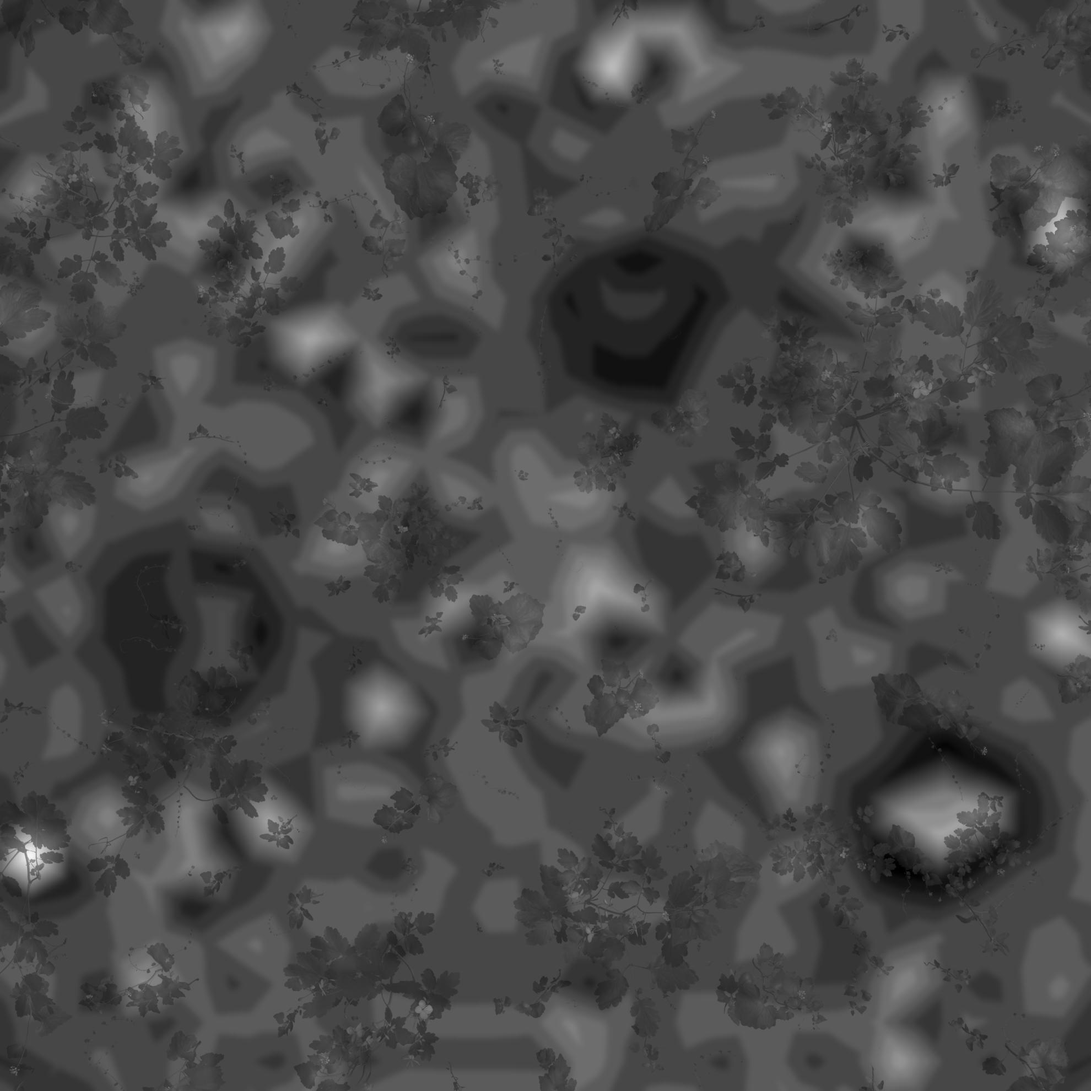landmine: (103, 535, 268, 710), (868, 729, 1031, 885), (560, 247, 696, 380)
